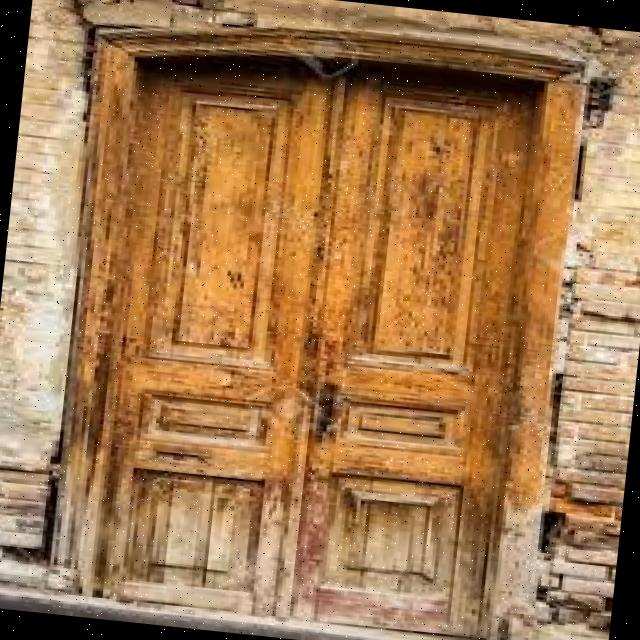Door: (40, 0, 602, 640)
